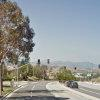Tree: (2, 2, 36, 91)
